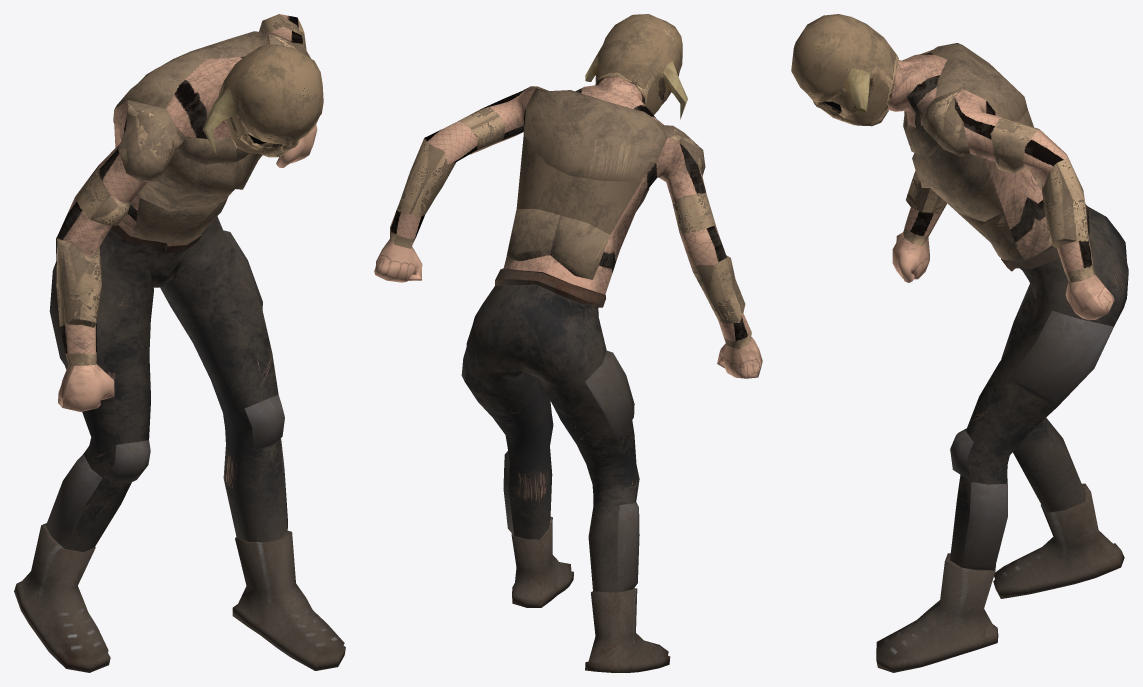
File: Anim_cogerobjeto_npc1.0023.obj
3 views of the same model, side by side, from view 1: azimuth 30°, elevation 25°; view 2: azimuth 150°, elevation 25°; view 3: azimuth 270°, elevation 25° (orthographic). The views are drawn at different scales.
Visible parts, largest first — view 1: NPC2; view 2: NPC2; view 3: NPC2.
Boxes of the visible parts, <box> form: NPC2: <box>14,14,345,672</box>; NPC2: <box>374,14,762,672</box>; NPC2: <box>791,14,1128,672</box>.
Bounding box in the file's own units: 4.55 × 8.24 × 4.06.
